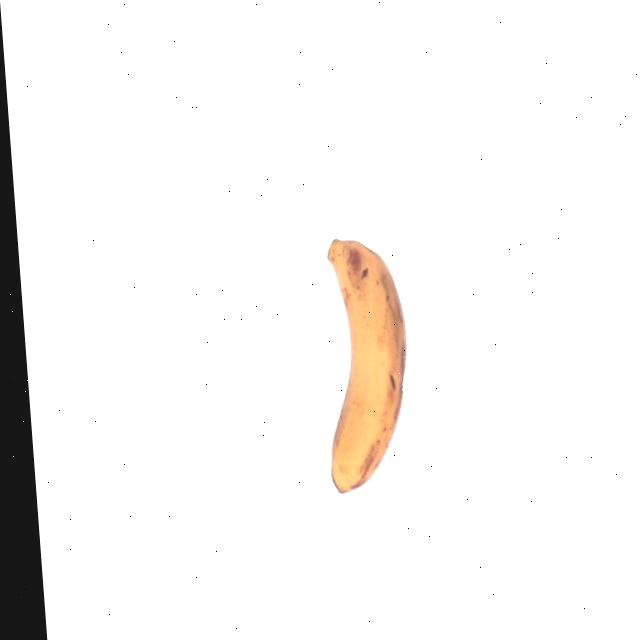banana: (304, 230, 424, 504)
